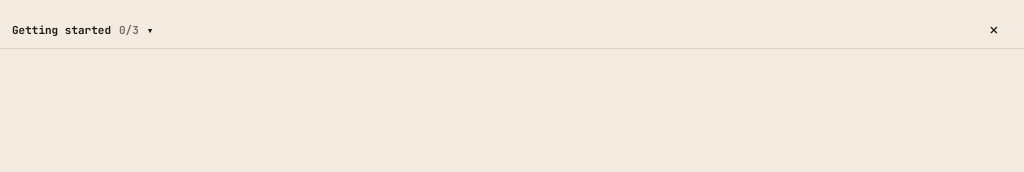
Test: getting started checklist › remembers completed steps across remounts
Later steps or results of the test are not shown.
Click the button "Getting started 0/3 ▾".
click(62, 30)  # box [12,12,968,48]
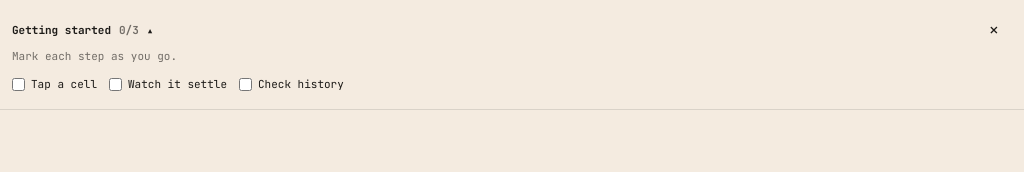
Click the checkbox labelled "Tap a cell".
click(18, 84)  # box [12,78,25,91]
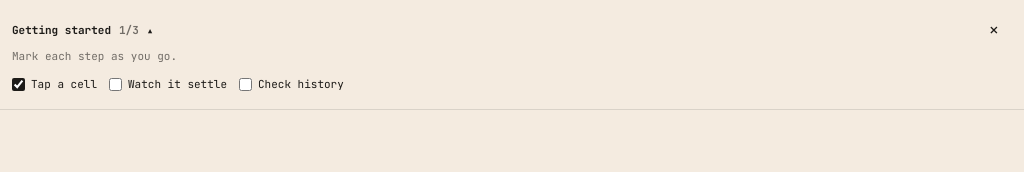
Now the text "1/3" is shown, box [119,22,139,38]
